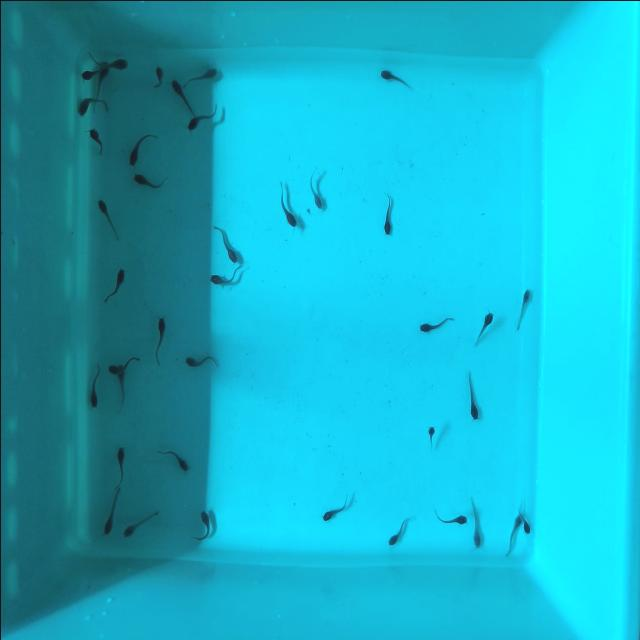lele: (210, 218, 240, 266), (121, 505, 161, 539), (123, 126, 157, 166), (272, 181, 299, 231), (184, 100, 219, 133), (168, 74, 195, 116), (95, 194, 119, 241), (377, 64, 414, 93), (101, 486, 122, 537), (157, 441, 190, 473), (385, 513, 413, 548), (471, 308, 496, 347), (106, 349, 140, 377), (463, 367, 480, 422), (103, 266, 127, 304), (182, 64, 217, 89), (502, 511, 521, 557), (91, 62, 109, 109), (514, 285, 532, 330), (319, 496, 349, 523), (193, 506, 214, 542), (86, 53, 127, 71), (77, 93, 111, 114), (468, 495, 481, 548), (306, 170, 323, 210), (86, 124, 106, 156), (514, 501, 532, 536), (417, 316, 453, 333), (132, 171, 166, 189), (88, 361, 100, 408), (113, 444, 125, 490), (209, 269, 239, 287), (381, 190, 392, 236), (155, 316, 165, 365), (80, 61, 103, 82), (185, 355, 217, 368), (434, 513, 466, 525), (117, 363, 125, 409), (426, 424, 436, 448), (154, 64, 163, 90)
